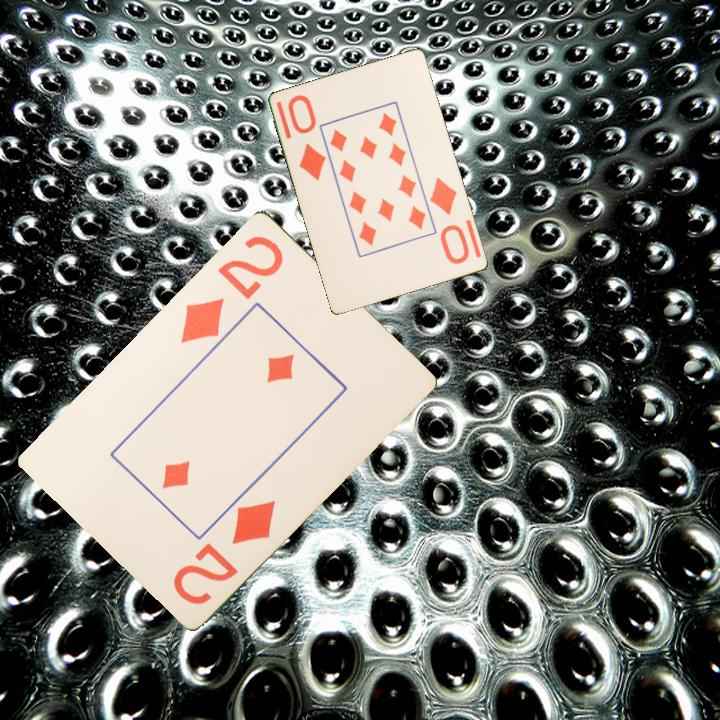10d: (426, 173, 473, 268), (284, 91, 329, 184)
2d: (176, 231, 287, 346), (169, 496, 279, 608)
